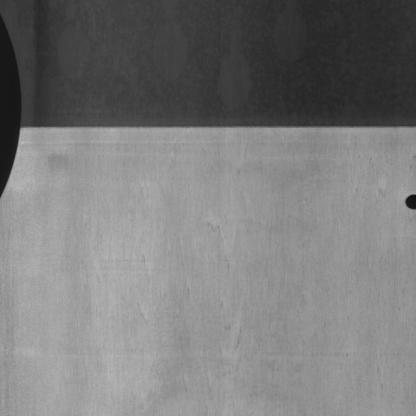crescent_gap: (0, 5, 32, 204)
punching_hole: (404, 189, 416, 215)
welding_line: (15, 113, 416, 139)
